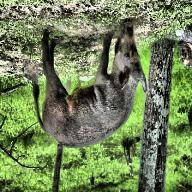boar: (23, 19, 141, 155)
